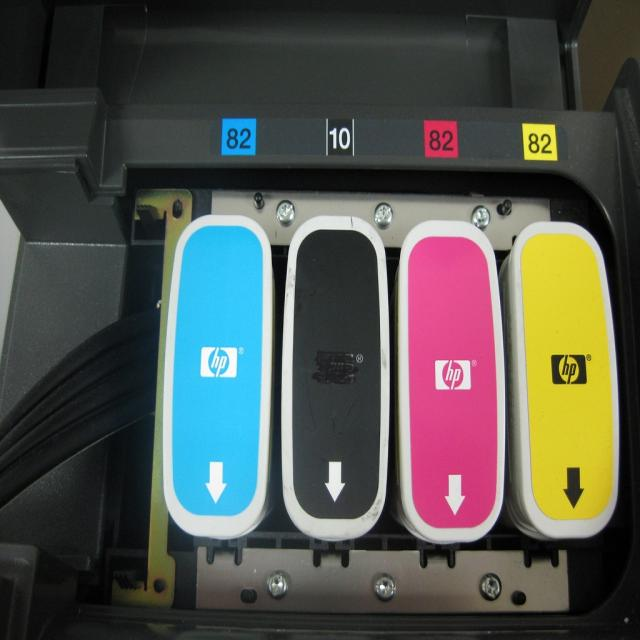HP: (550, 353, 591, 389), (200, 345, 240, 380), (434, 359, 475, 393)
